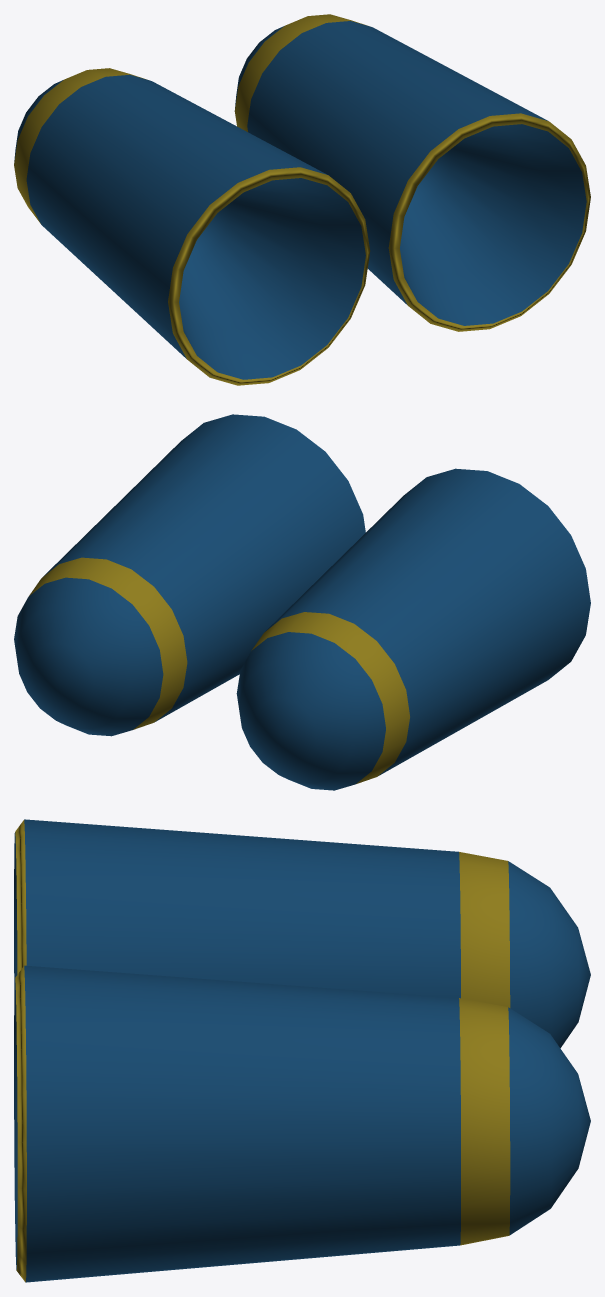
The model's file is ALLIANCEENGINE2.fbx.
The picture shows the model from 3 angles, top to bottom: view 1: azimuth 30°, elevation 25°; view 2: azimuth 150°, elevation 25°; view 3: azimuth 270°, elevation 25°; orthographic projection. The views are drawn at different scales.
Parts seen in each view (by area): view 1: pCylinder19; view 2: pCylinder19; view 3: pCylinder19.
Boxes of the visible parts, x1,y1,x2,y2 form: pCylinder19: (14, 14, 590, 385); pCylinder19: (14, 414, 590, 790); pCylinder19: (14, 819, 590, 1282).
Bounding box in the file's own units: 10.73 × 5.15 × 9.3.
